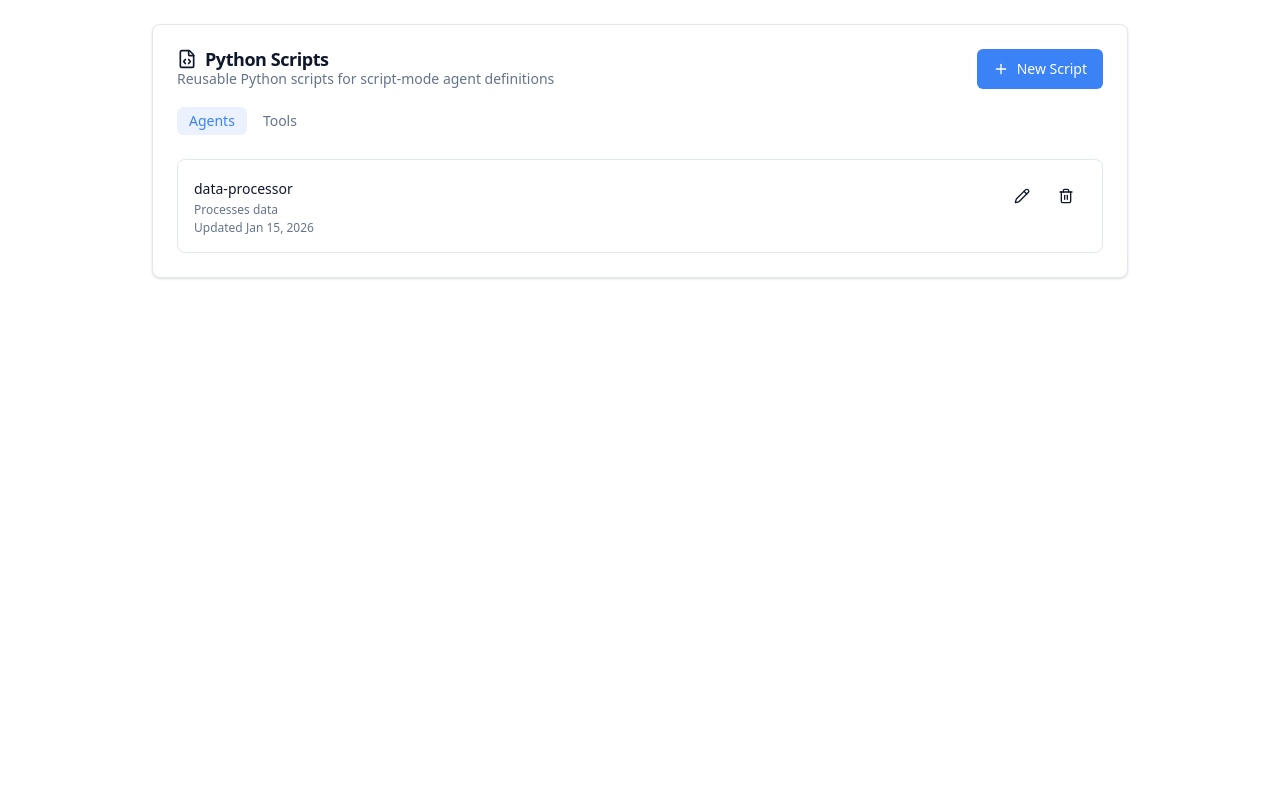
Scenario: PythonScriptsPage — delete flow › closes delete dialog on Cancel
Click the 5th button: (1066, 196) [1046, 176, 1086, 216]
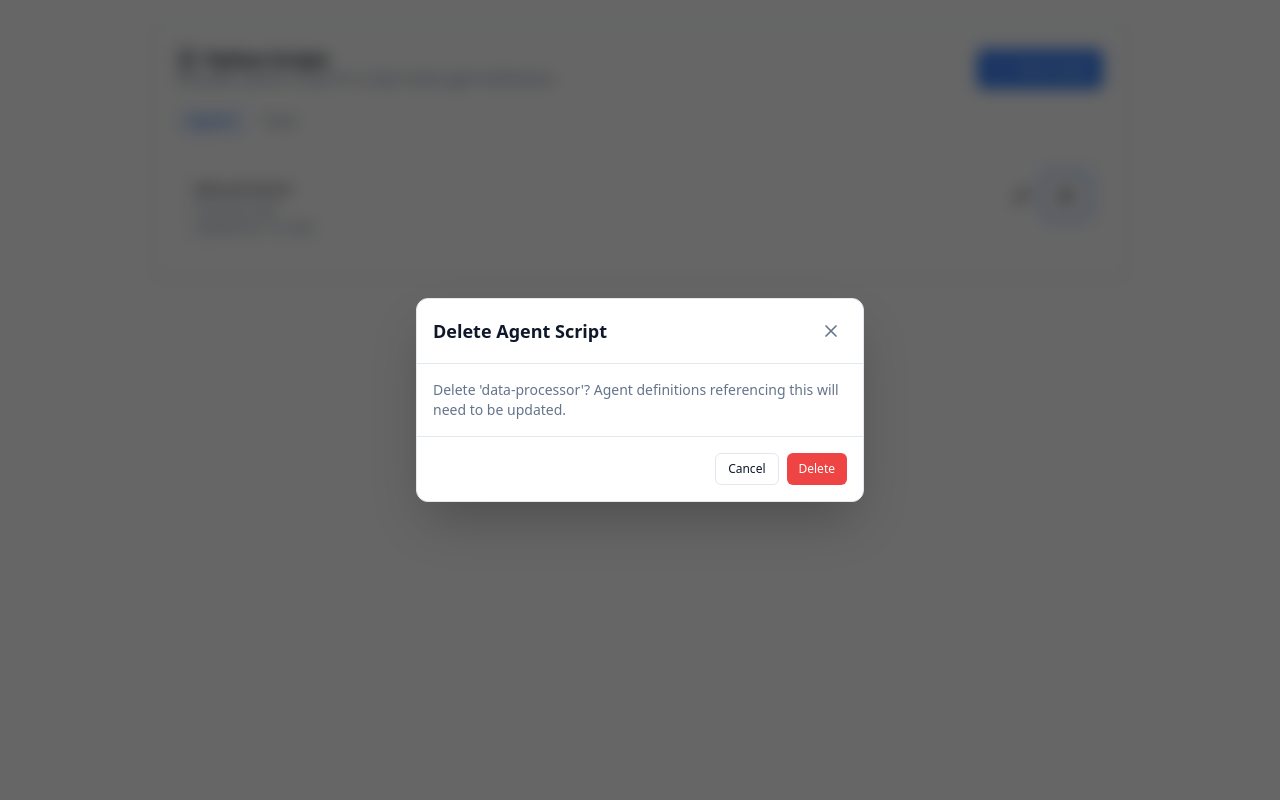
expect the heading "Delete Agent Script" is shown: met, box [433, 319, 607, 343]
Click the button "Cancel": (747, 469) [715, 453, 778, 485]
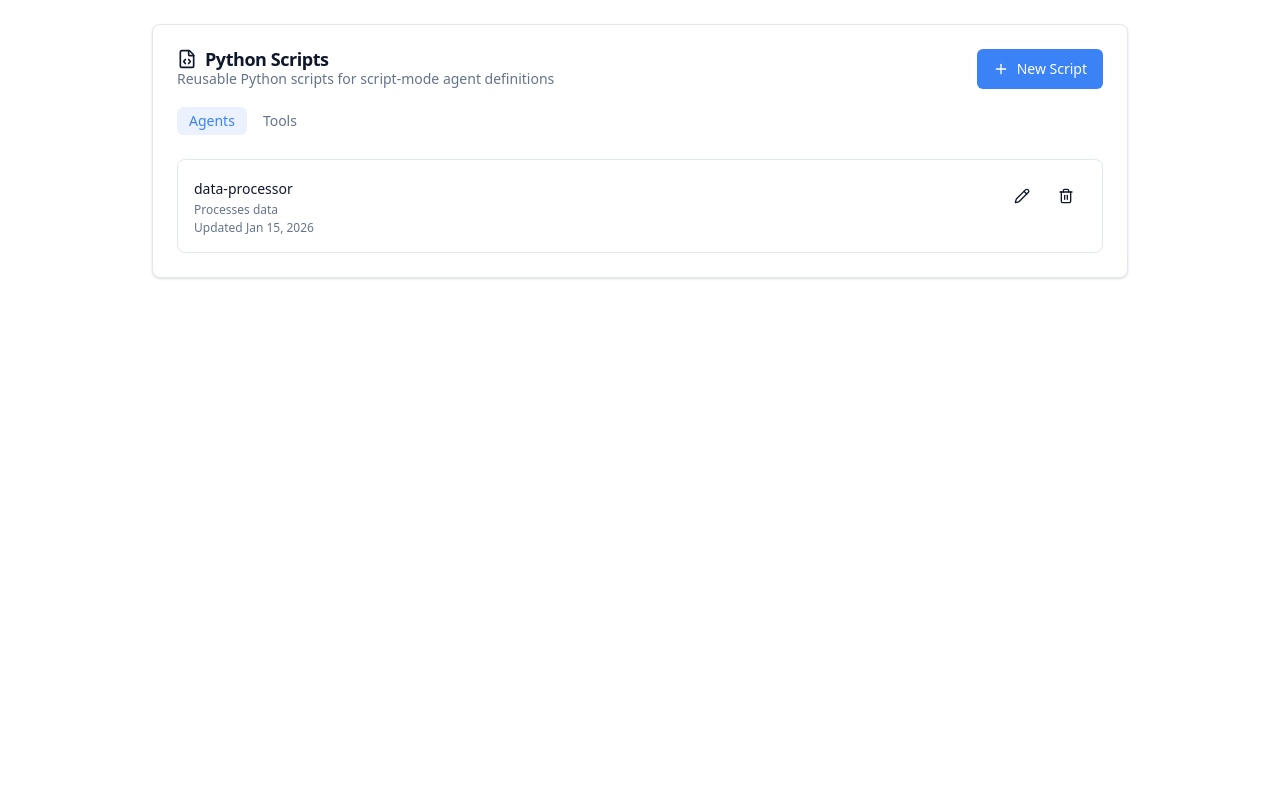
expect the heading "Delete Agent Script" is gone: met
